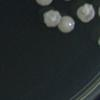white: (75, 3, 95, 25), (55, 15, 74, 35), (44, 9, 61, 29), (35, 0, 53, 6)
